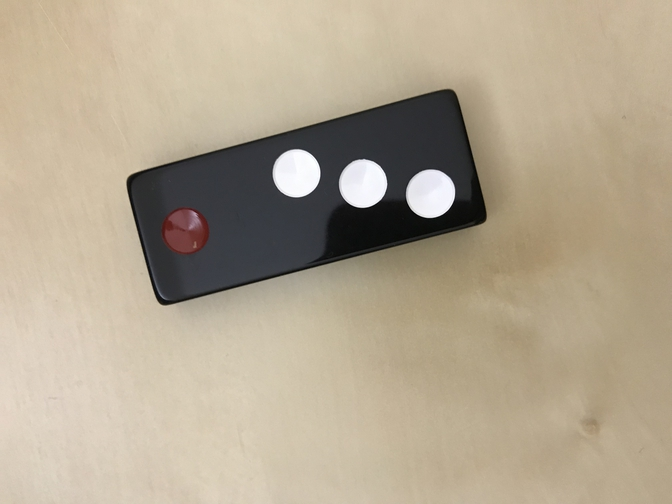goose: (125, 89, 486, 306)
